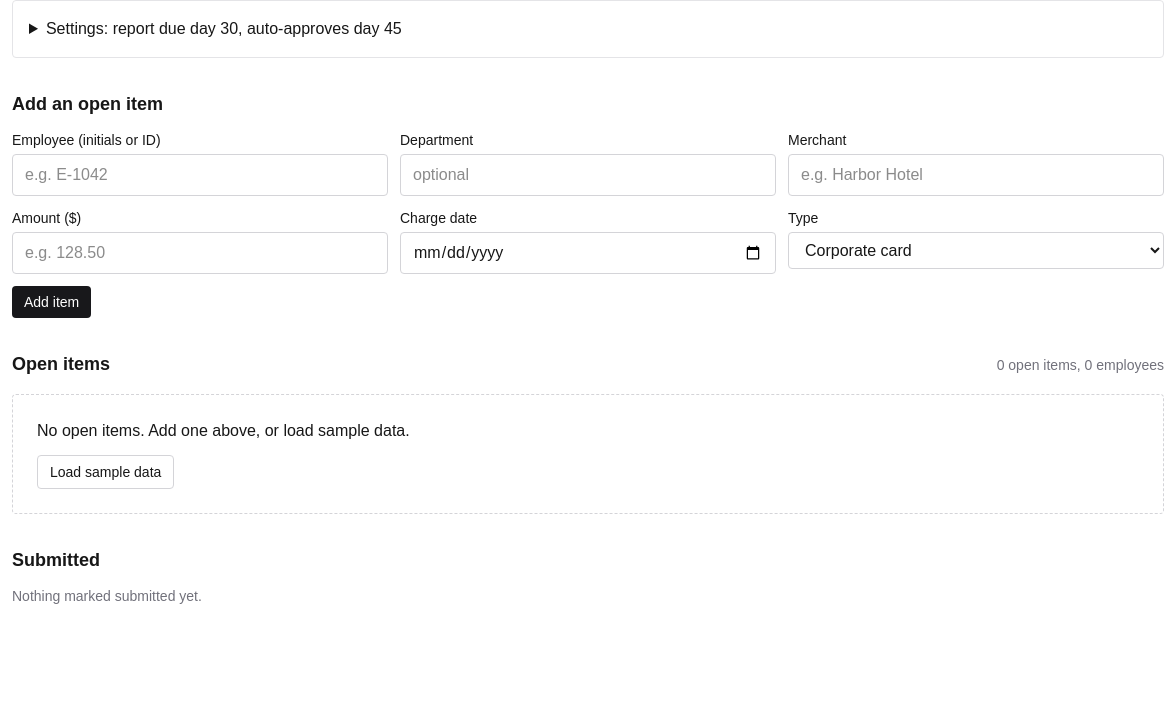
it: Tracker › shows Copied when the clipboard works (S2 criterion 4)
Check: the heading "Add an open item" is shown, box [12,94,163,114]
Type "E-7" into the field labelled "Employee (initials or ID)". click: (200, 175)
box: [12,154,388,196]
Type "Harbor Hotel" into the field labelled "Merchant". click: (976, 175)
box: [788,154,1164,196]
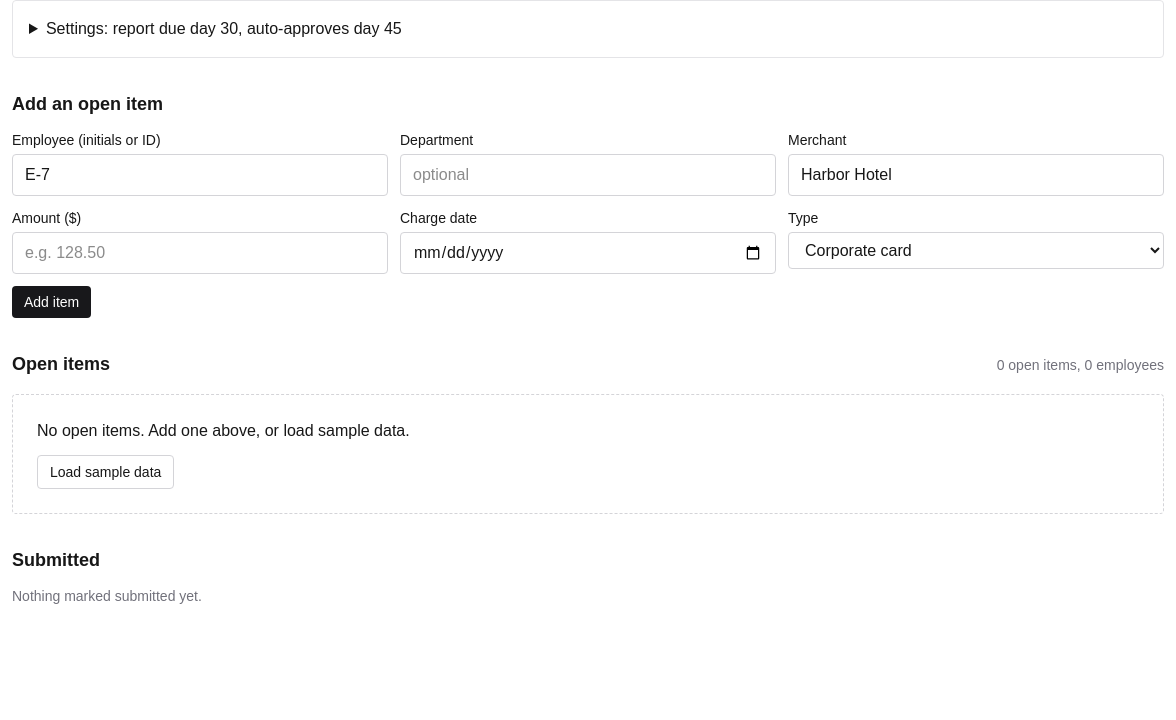
Type "412.80" into the field labelled "Amount ($)". click: (200, 253)
box: [12,232,388,274]
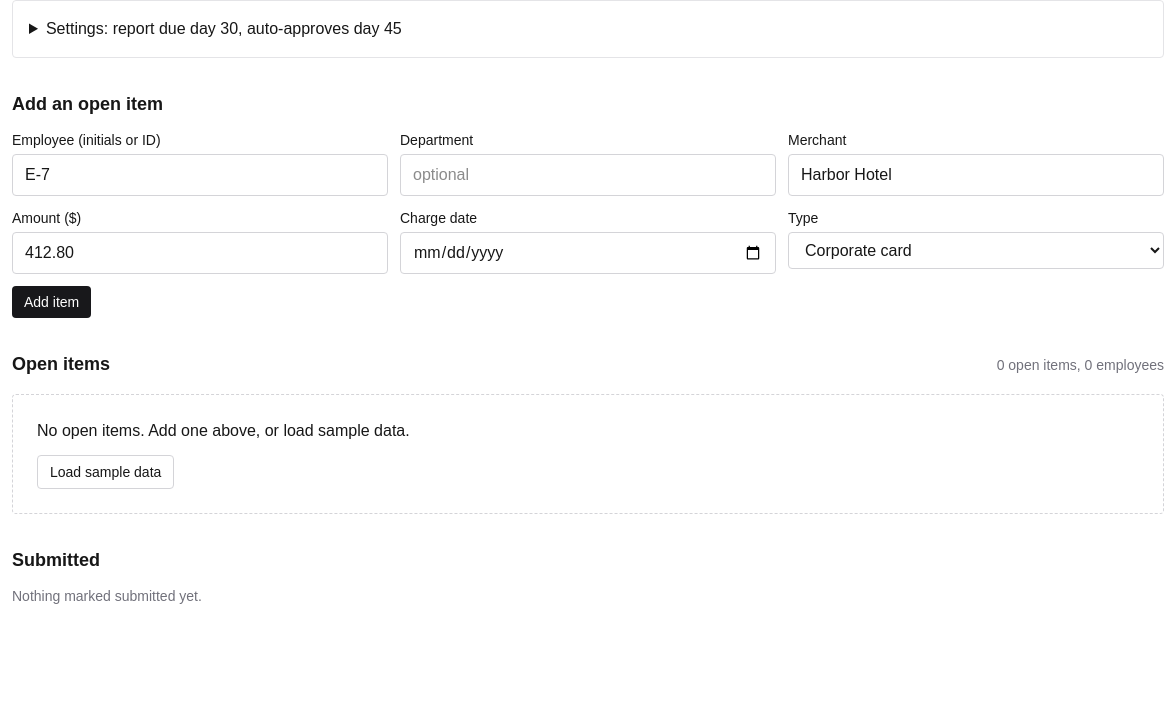
Type "2026-10-09" into the date field labelled "Charge date". click: (588, 253)
box: [400,232,776,274]
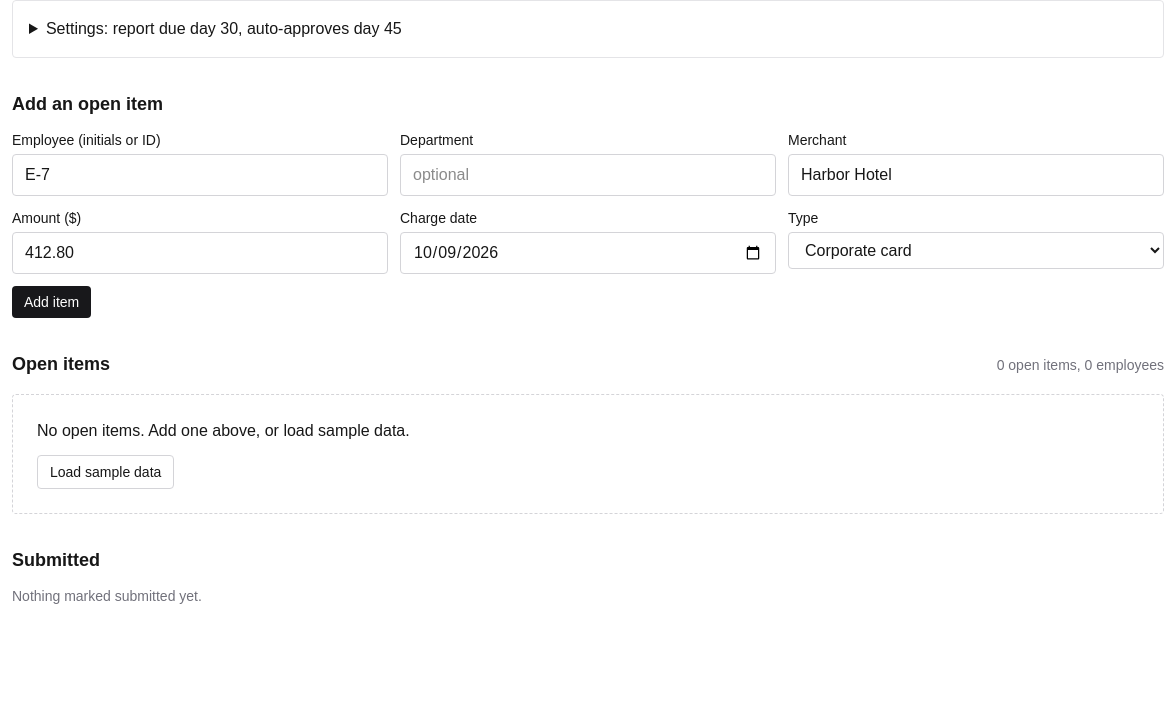
Click the button "Add item". click: (52, 302)
box: [12,286,91,318]
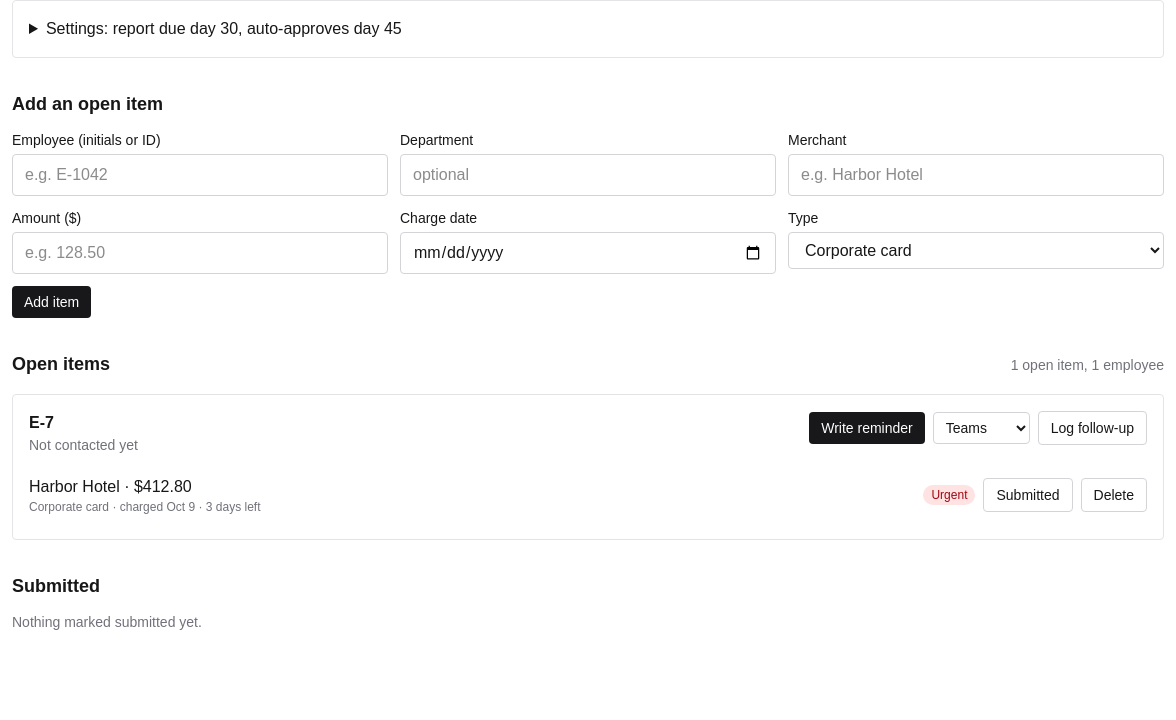
Check: the text "Harbor Hotel · $412.80" is shown, box [29,478,192,495]
Click the button "Write reminder". click: (867, 428)
box: [809,412,925,444]
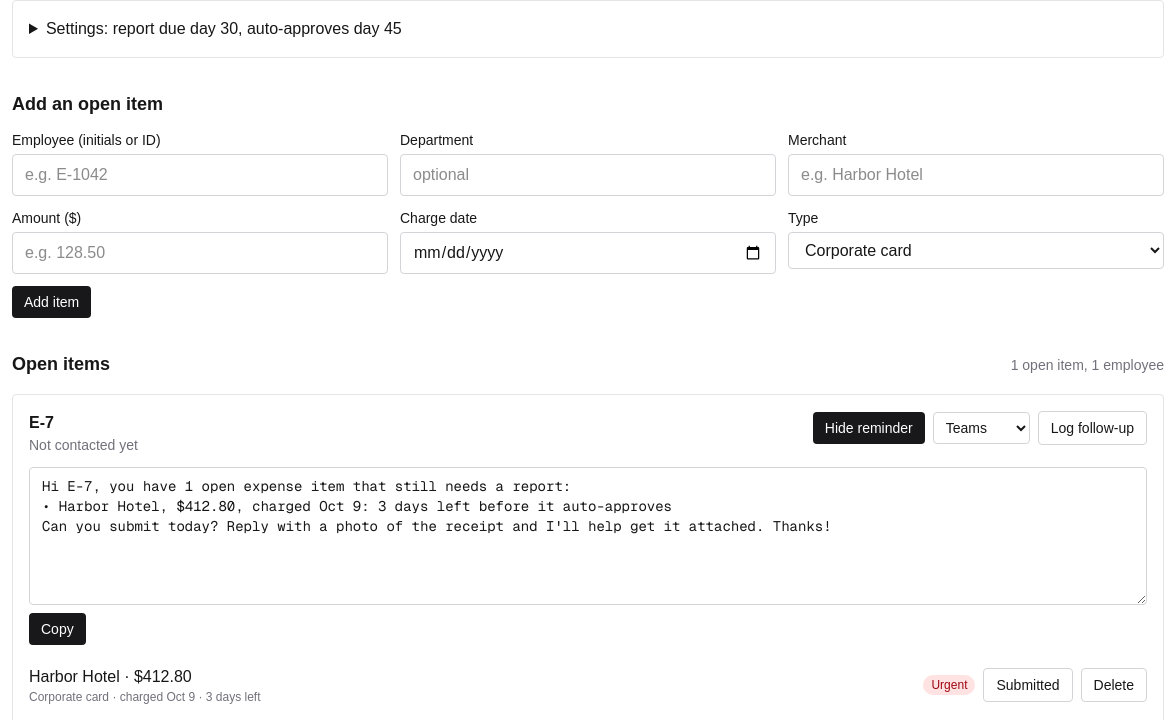
Click the button "Copy". click: (57, 629)
box: [29,613,86,645]
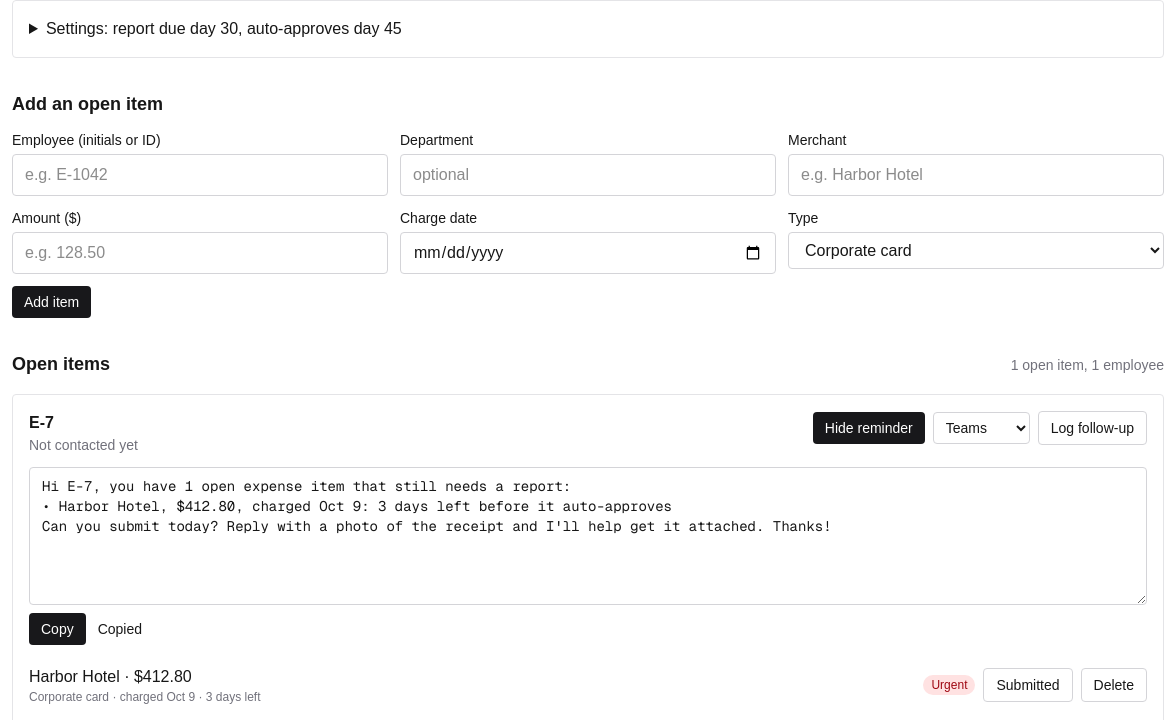
Check: the text "Copied" is shown, box [98,619,142,639]
